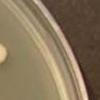white: (0, 41, 8, 66)
